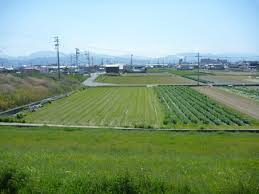field: (6, 64, 253, 192)
sky: (2, 2, 254, 63)
